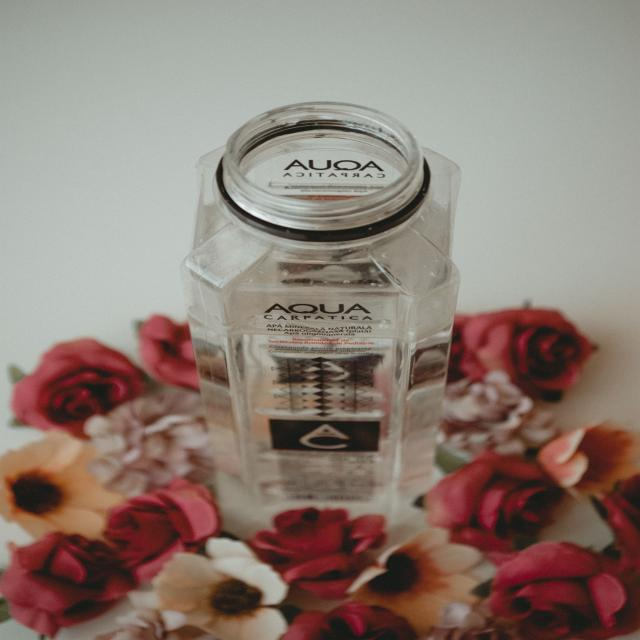Bottle: (183, 103, 459, 534)
